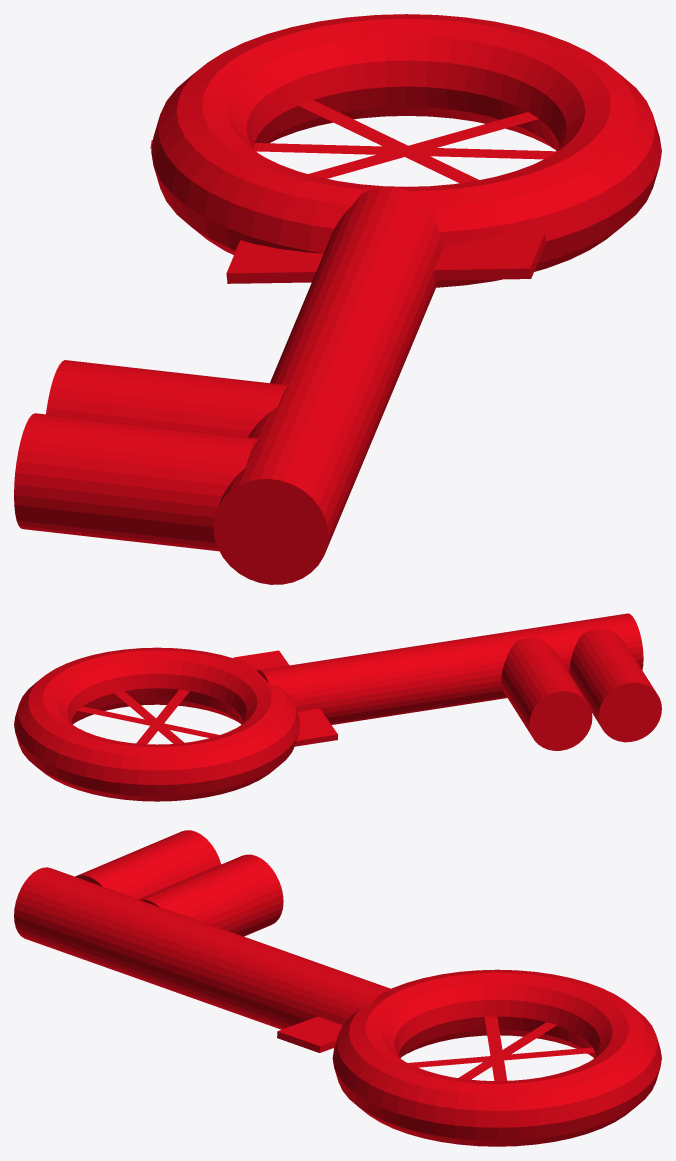
Rendered from KeyRed.fbx.
3 renders of one model, top to bottom at view 1: azimuth 30°, elevation 25°; view 2: azimuth 150°, elevation 25°; view 3: azimuth 270°, elevation 25°, orthographic. The views are drawn at different scales.
Parts seen in each view (by area): view 1: KeyRed; view 2: KeyRed; view 3: KeyRed.
Boxes of the visible parts, bbox=[...] form: KeyRed: bbox=[14, 14, 661, 584]; KeyRed: bbox=[14, 613, 661, 801]; KeyRed: bbox=[14, 830, 661, 1146].
Bounding box in the file's own units: 3.43 × 0.4 × 3.44.
